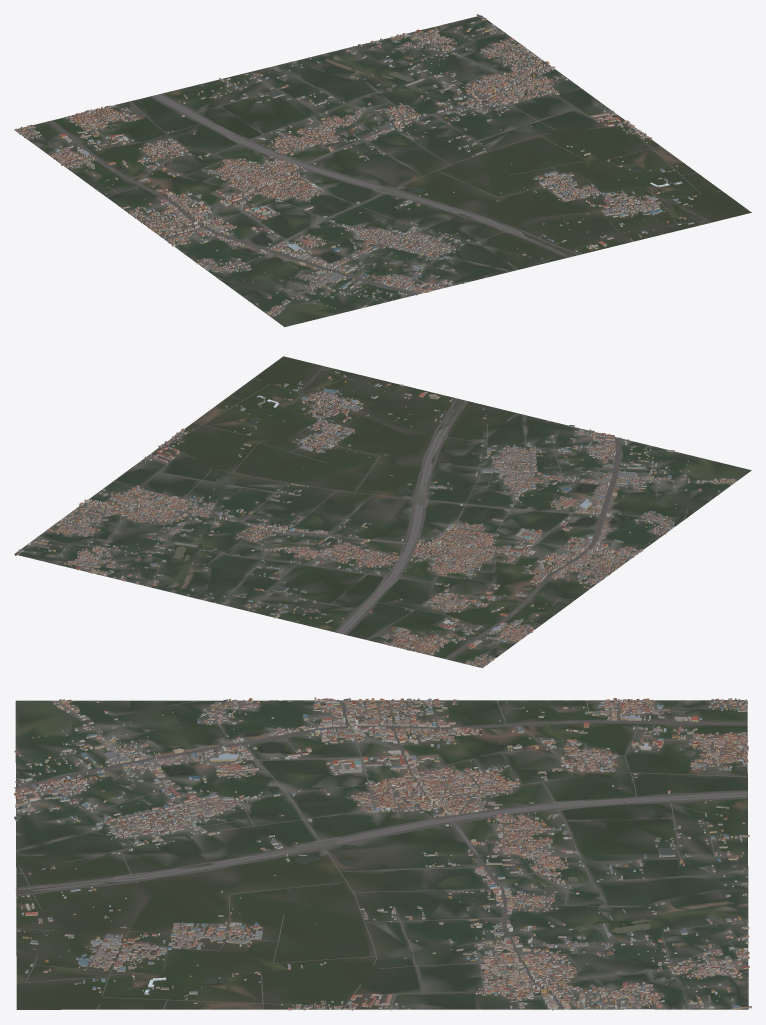
3 views of the same model, one above another, from view 1: azimuth 30°, elevation 25°; view 2: azimuth 150°, elevation 25°; view 3: azimuth 270°, elevation 25° (orthographic). The views are drawn at different scales.
Parts seen in each view (by area): view 1: ground, buildings, roads, water; view 2: ground, buildings, roads, water; view 3: ground, buildings, roads, water.
Boxes of the visible parts, x1=… form: ground: x1=14, y1=15, x2=751, y2=327; buildings: x1=14, y1=14, x2=696, y2=316; roads: x1=22, y1=28, x2=721, y2=315; water: x1=120, y1=26, x2=642, y2=260; ground: x1=14, y1=356, x2=751, y2=667; buildings: x1=15, y1=371, x2=735, y2=667; roads: x1=36, y1=366, x2=724, y2=665; water: x1=57, y1=417, x2=617, y2=609; ground: x1=15, y1=700, x2=748, y2=1009; buildings: x1=14, y1=697, x2=751, y2=1010; roads: x1=14, y1=700, x2=748, y2=1009; water: x1=167, y1=725, x2=748, y2=984.
Size of the model in its own units: 2820 by 30.71 by 2827.
